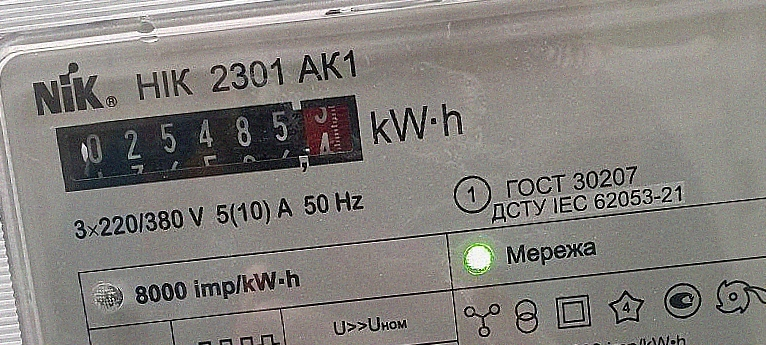0: (81, 129, 106, 166)
2: (120, 125, 143, 162)
4: (192, 114, 217, 150), (313, 127, 335, 157)
5: (267, 106, 291, 145), (155, 118, 179, 155)
8: (231, 110, 255, 150)
screen: (45, 85, 373, 204)
